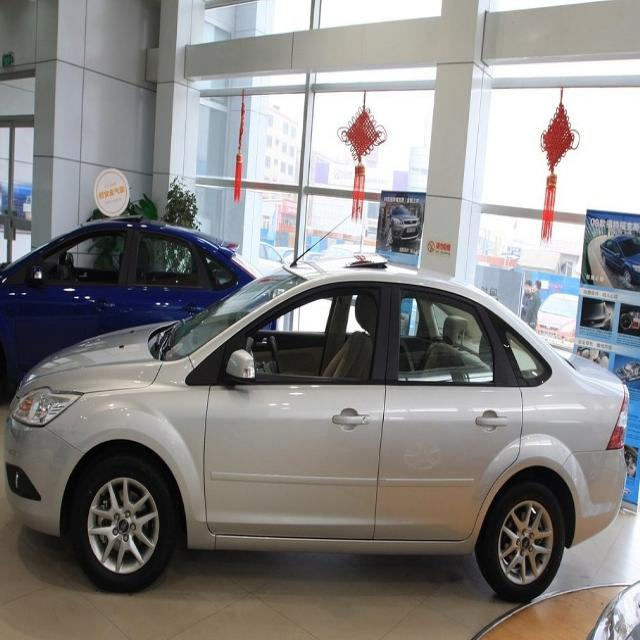back_left_side_light: (607, 386, 631, 452)
door: (386, 278, 524, 541)
front_bumper: (1, 411, 81, 543)
front_glass: (157, 262, 306, 362)
front_left_side_door: (202, 279, 396, 544)
front_left_side_light: (10, 386, 84, 430)
front_left_side_mirror: (222, 346, 257, 388)
rear_bumper: (559, 443, 629, 550)
wheel: (70, 453, 171, 594), (478, 480, 565, 600)
